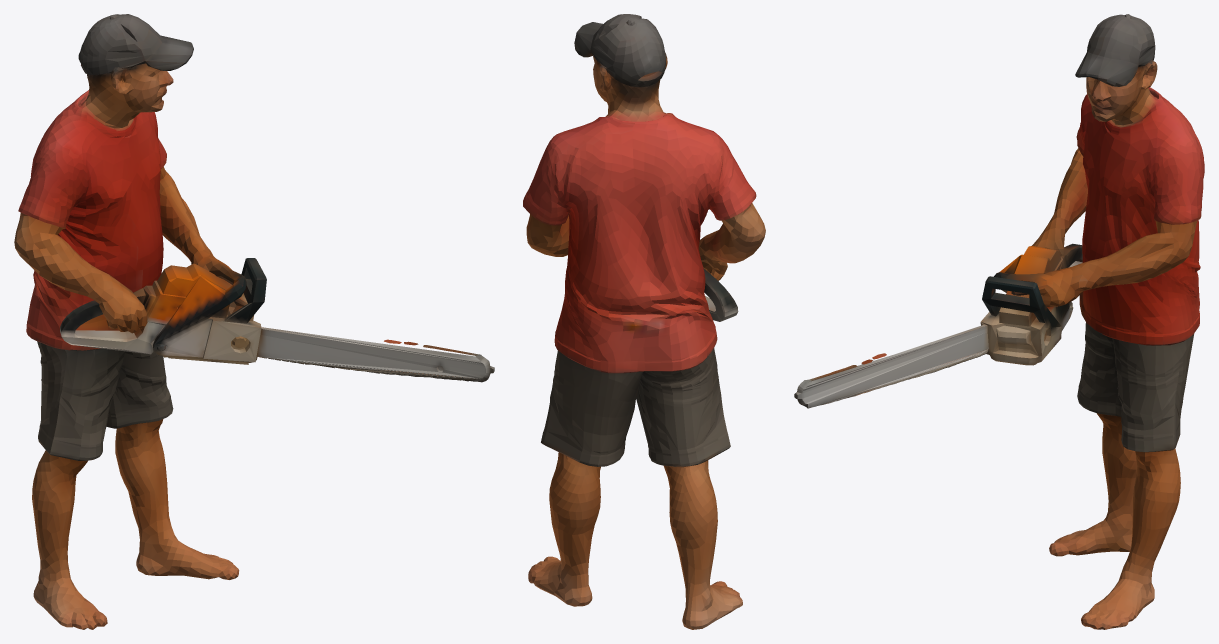
The picture shows the model from 3 angles, left to right: view 1: azimuth 30°, elevation 25°; view 2: azimuth 150°, elevation 25°; view 3: azimuth 270°, elevation 25°; orthographic projection. The views are drawn at different scales.
Visible parts, largest first — view 1: texture_pbr_v128; view 2: texture_pbr_v128; view 3: texture_pbr_v128.
Part boxes in pixels (x1,y1,x2,y2): texture_pbr_v128: (14, 14, 494, 629); texture_pbr_v128: (523, 14, 765, 629); texture_pbr_v128: (794, 14, 1204, 629).
Bounding box in the file's own units: 0.6093 × 1.02 × 0.671.
Materials: 1 (1 with a texture image).
